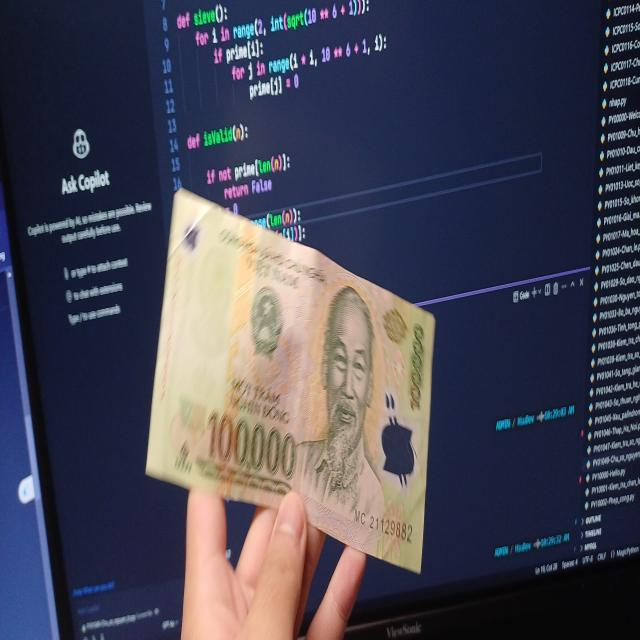100 000 VND: (142, 183, 438, 579)
